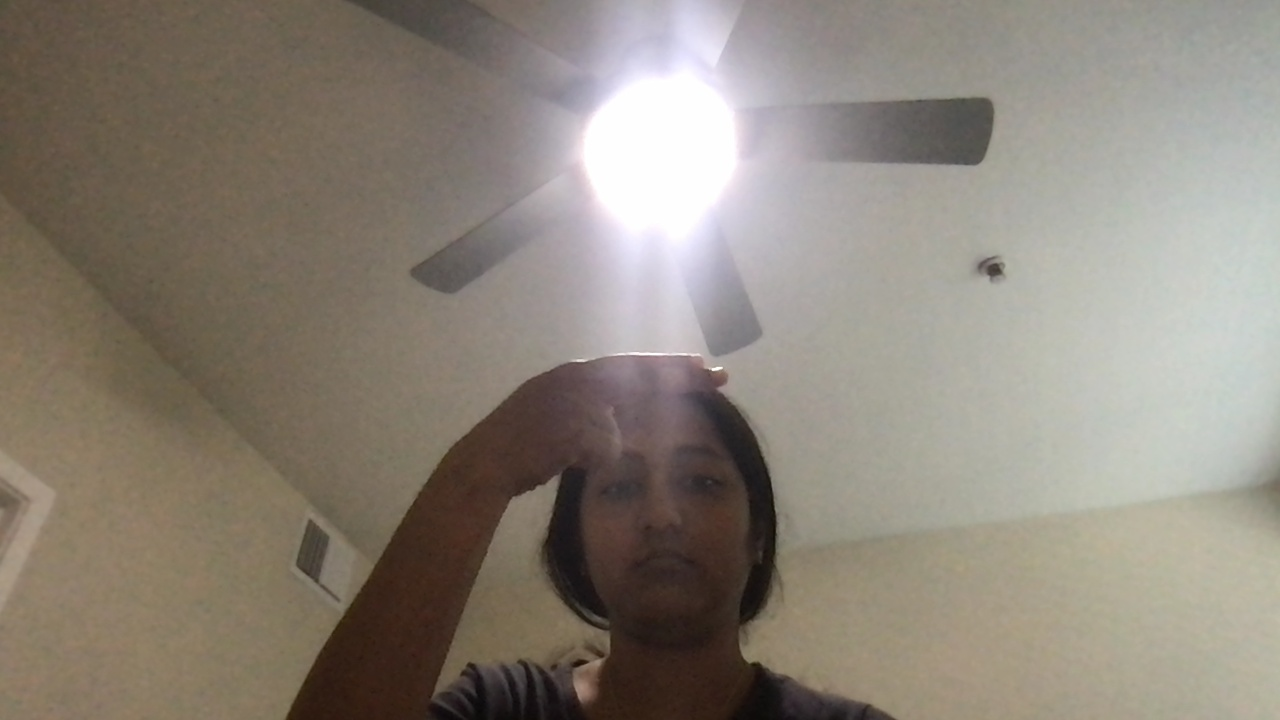g: (544, 354, 739, 482)
h: (525, 352, 737, 496)
